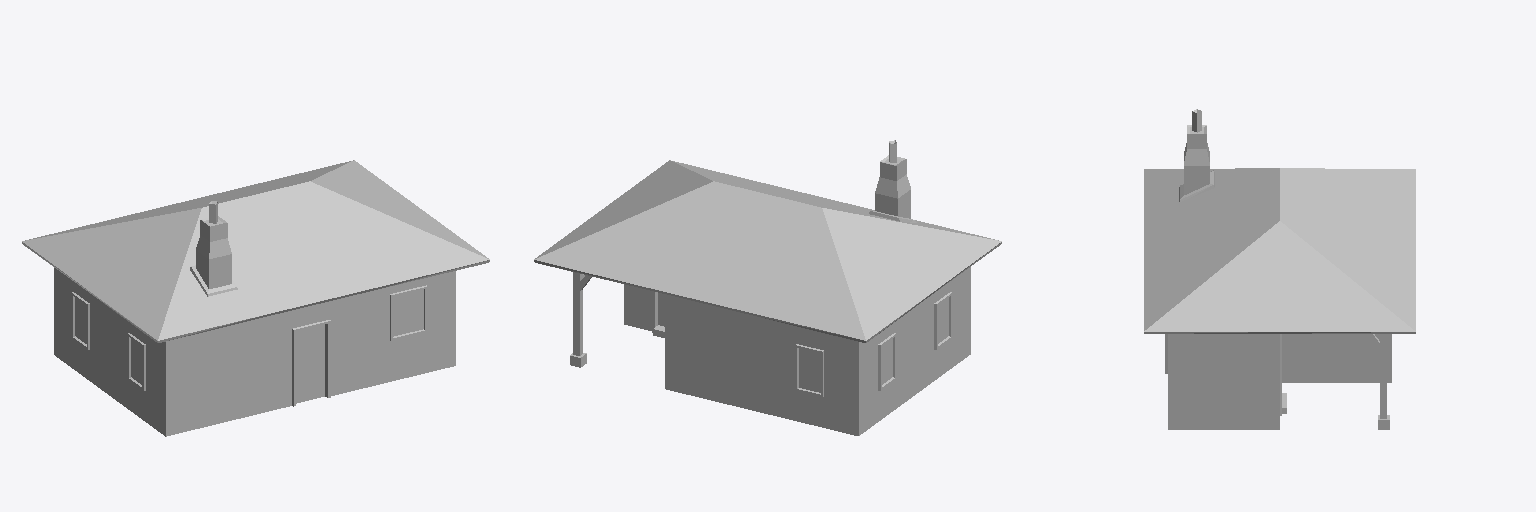
The model's file is Home.obj.
3 renders of one model, left to right at view 1: azimuth 30°, elevation 25°; view 2: azimuth 150°, elevation 25°; view 3: azimuth 270°, elevation 25°, orthographic.
Visible parts, largest first — view 1: building_3; view 2: building_3; view 3: building_3.
Part boxes in pixels (bbox=[...]): building_3: bbox=[22, 160, 489, 436]; building_3: bbox=[534, 140, 1001, 435]; building_3: bbox=[1144, 109, 1415, 429].
Bounding box in the file's own units: 34.36 × 20.49 × 24.36.